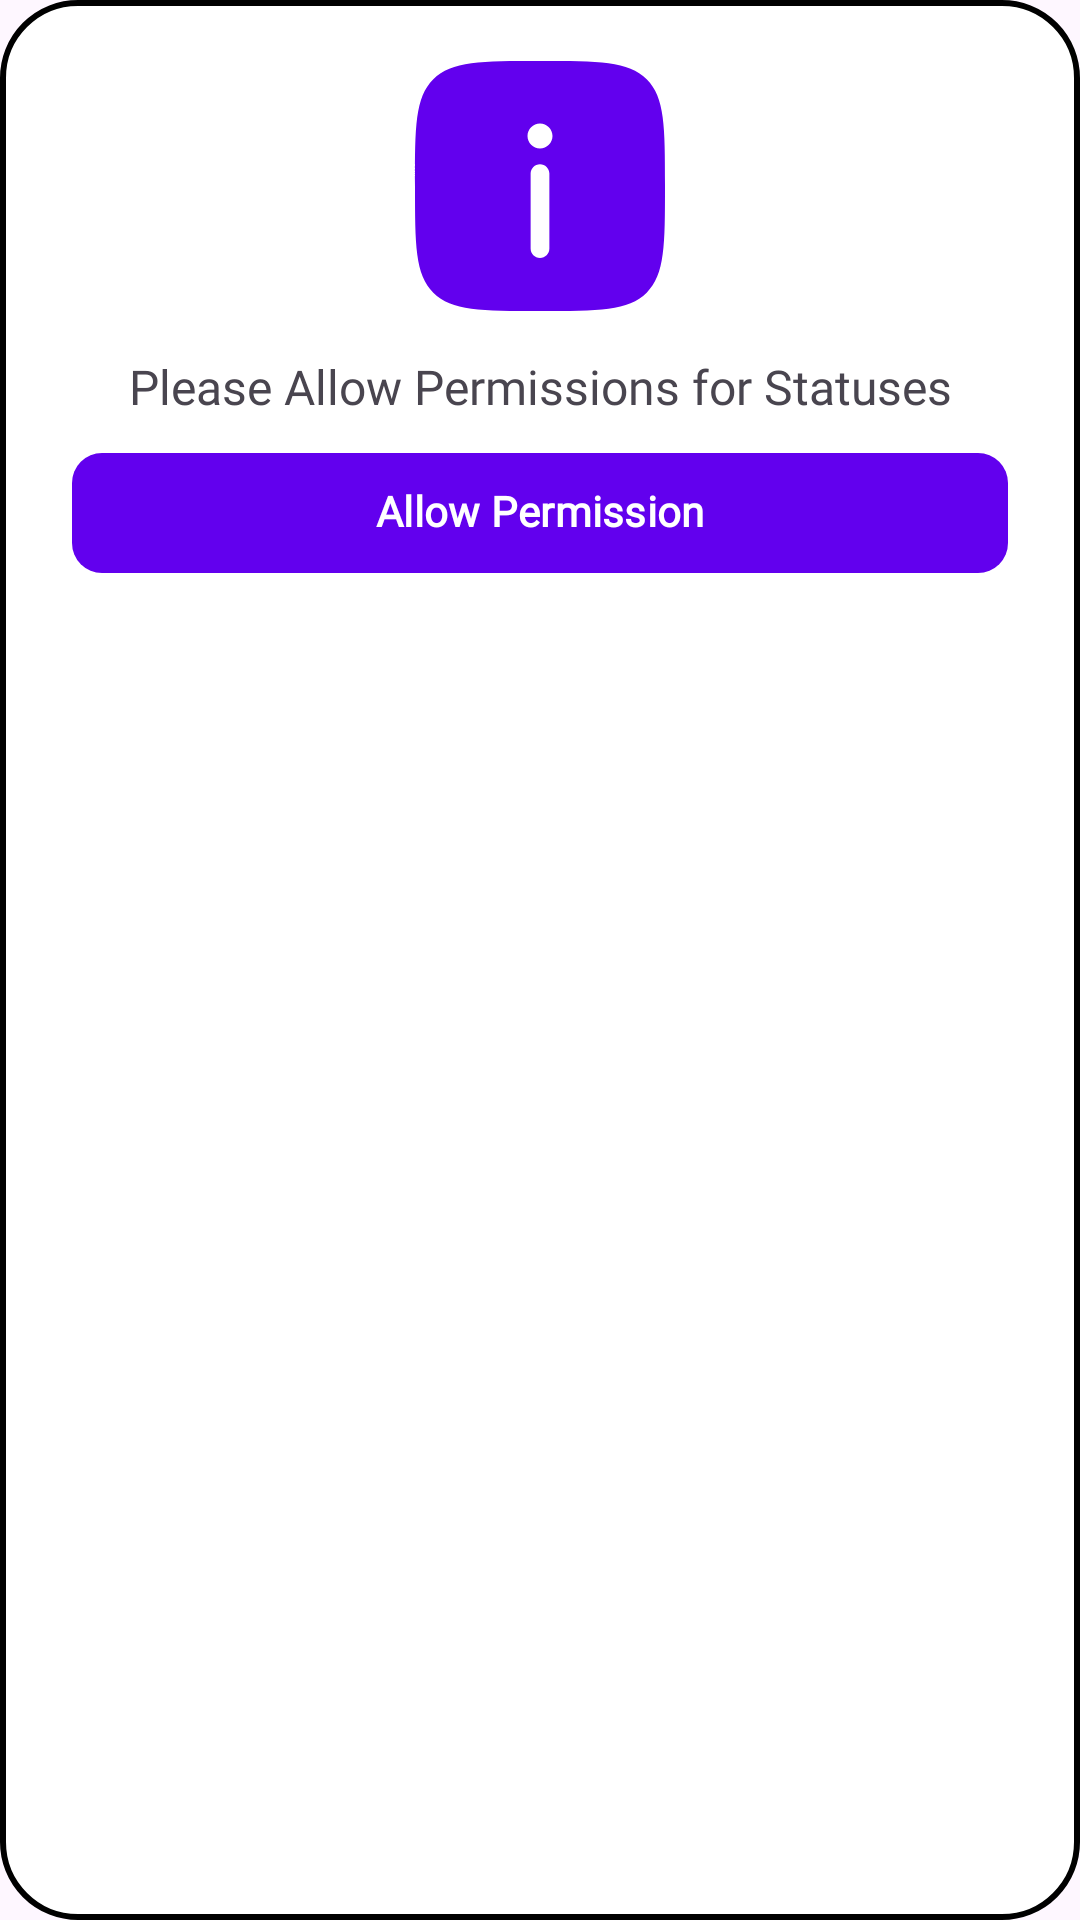

Point at icon controls on the screen. Image size 1080px x 1920px, points as (x,y).
info: (539,186)
